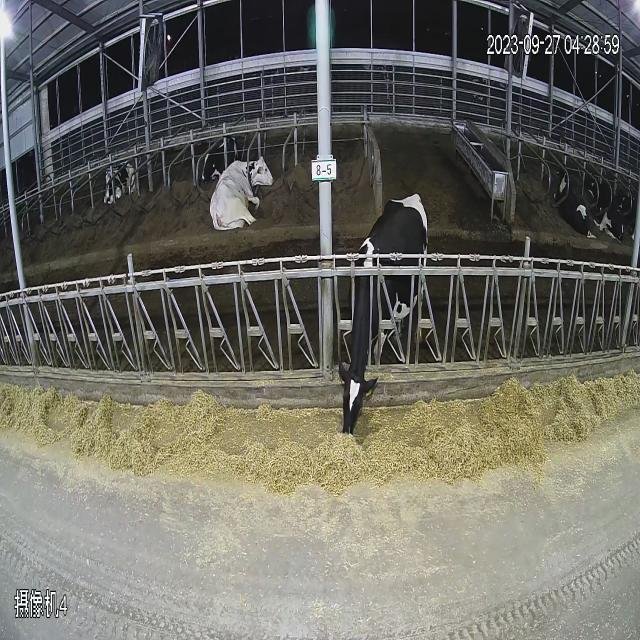feeding: (330, 132, 438, 470)
lying down: (209, 150, 280, 250), (88, 126, 142, 233), (546, 160, 598, 254), (587, 152, 627, 252)
